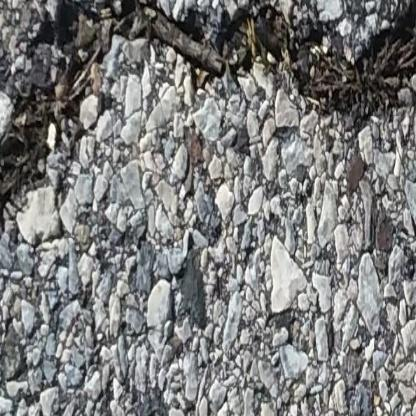Cracks: (0, 0, 416, 212)
